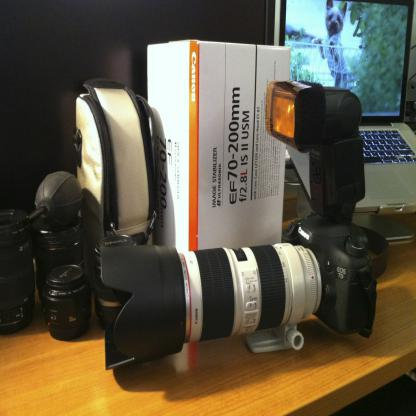Camera: (99, 80, 377, 378), (32, 217, 86, 313), (1, 209, 32, 333), (95, 235, 132, 326), (47, 268, 92, 341)
